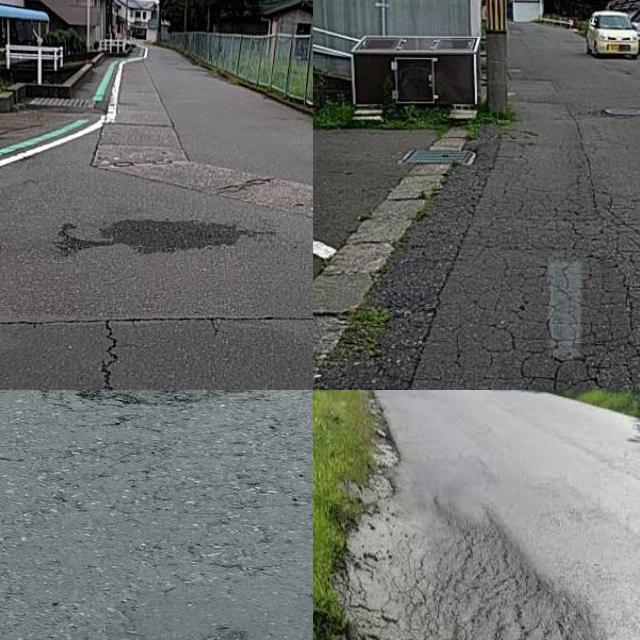Lubang: (84, 390, 290, 415)
Melintang: (0, 306, 313, 337)
Memanjang: (96, 308, 131, 390)
Pinggir: (313, 428, 458, 640)
Retak Buaya: (492, 189, 640, 390)
